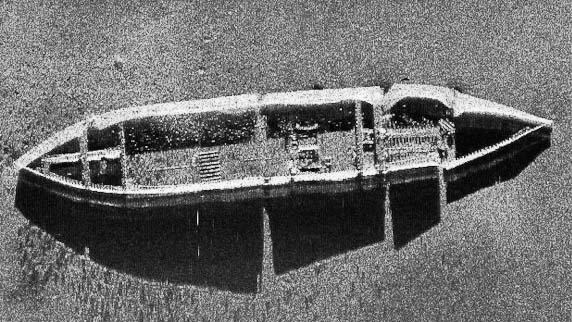ship: (18, 83, 555, 211)
